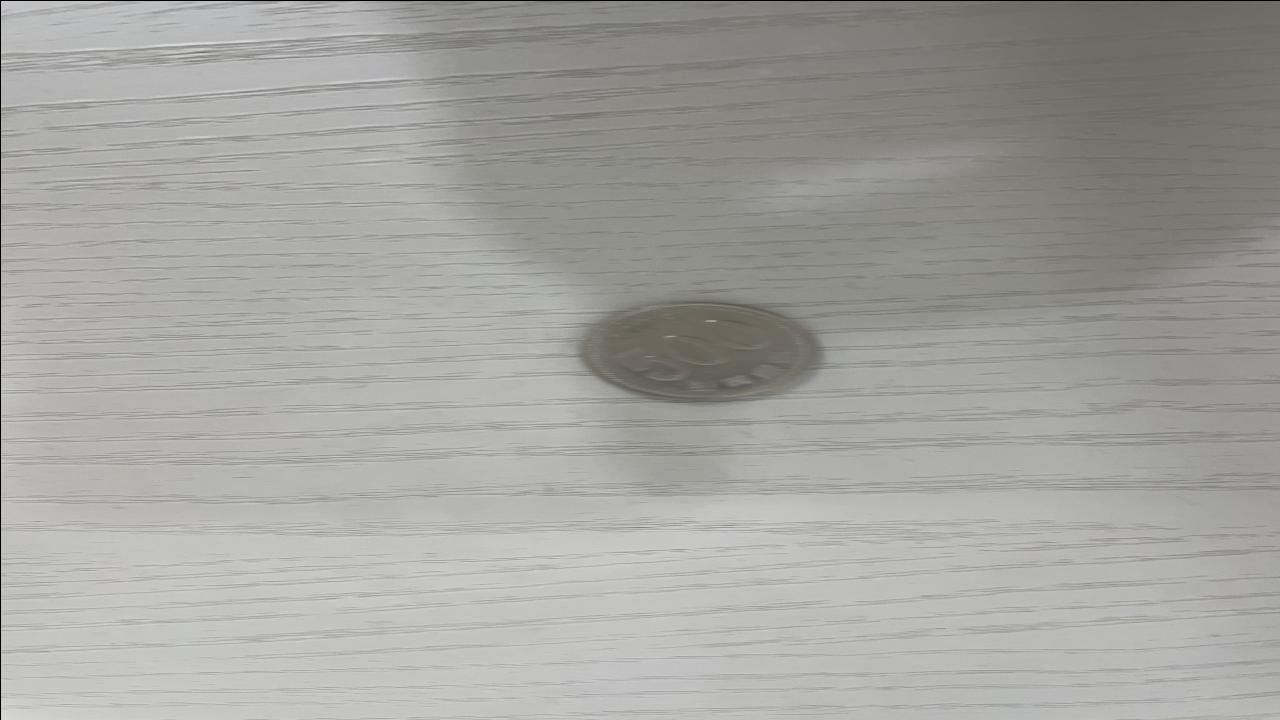coin: (569, 298, 830, 403)
